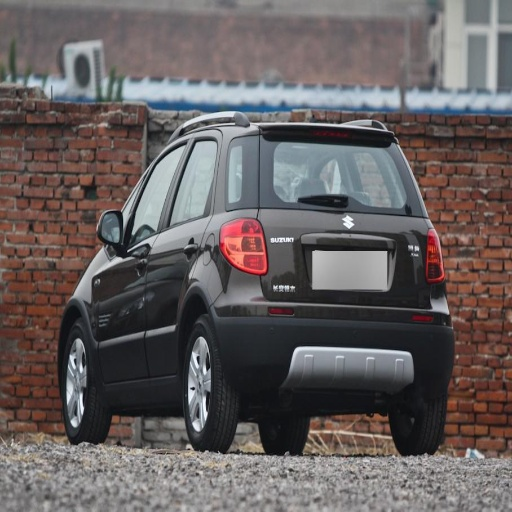back_bumper: (218, 276, 446, 392)
back_glass: (266, 130, 416, 211)
back_left_door: (148, 139, 217, 376)
trunk: (223, 205, 427, 348)
